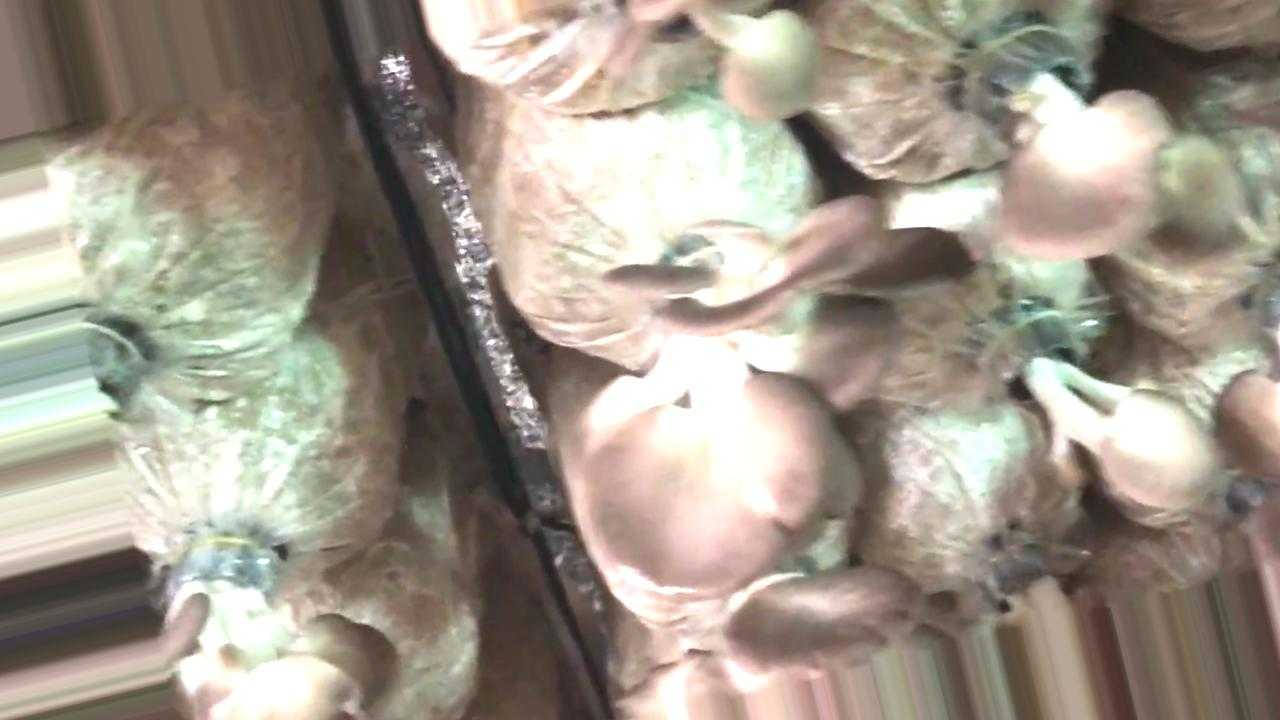nam: (570, 188, 874, 593), (157, 521, 400, 720), (991, 18, 1171, 264), (998, 324, 1223, 520), (713, 568, 911, 681), (659, 3, 824, 127)
